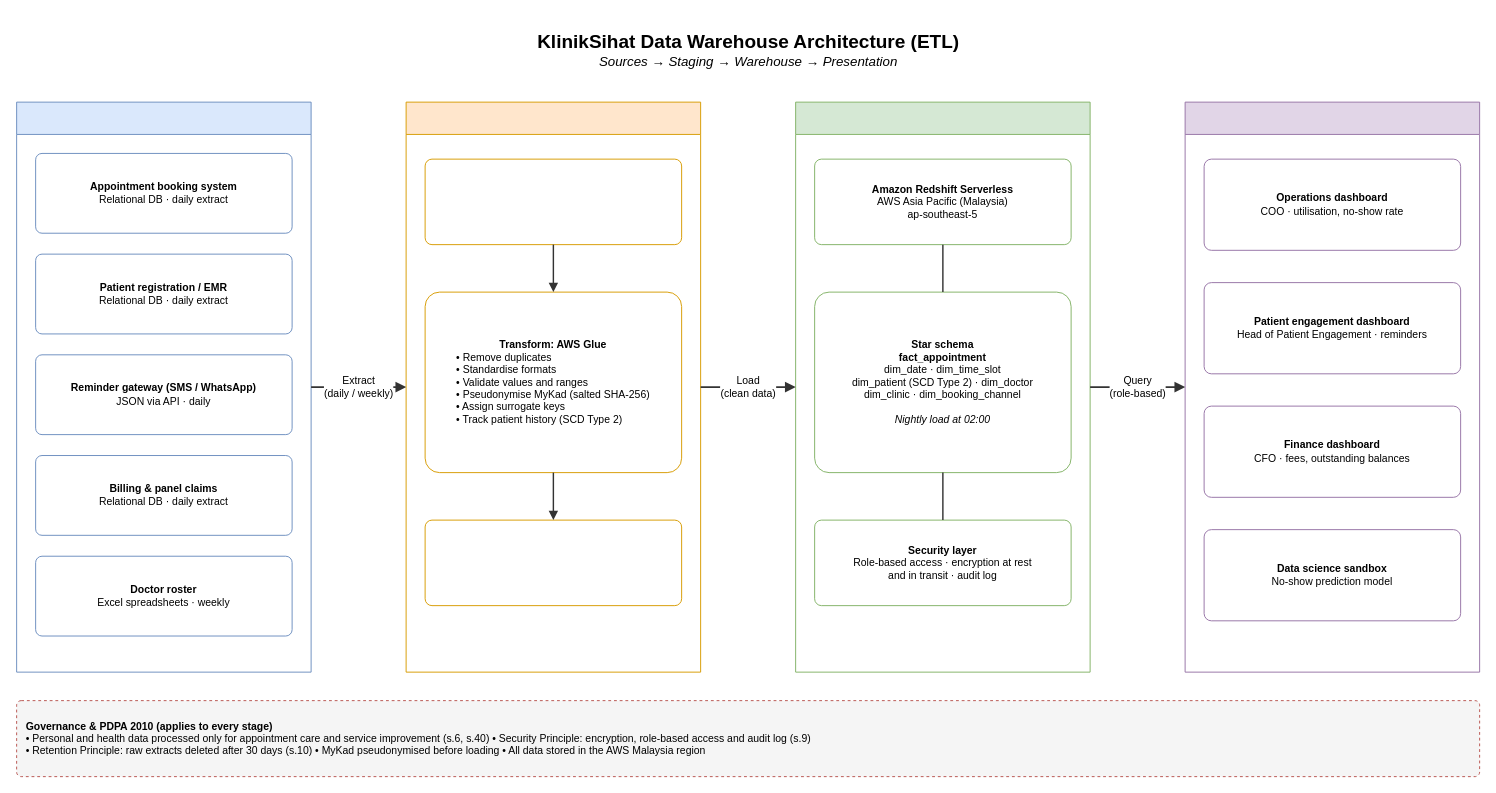
This 1496x793 diagram has some shape labels left out. Each missing label, with the box of its shape:
1. Source systems: (16, 101, 311, 672)
2. Staging area (ETL): (405, 101, 701, 672)
3. Data warehouse (storage): (795, 101, 1090, 672)
4. Presentation / access: (1184, 101, 1480, 672)
Data quality log + reject table Failed rows kept for review: (424, 519, 682, 606)
Landing zone: Amazon S3 Raw extracts, encrypted Deleted after 30 days: (424, 158, 682, 245)
